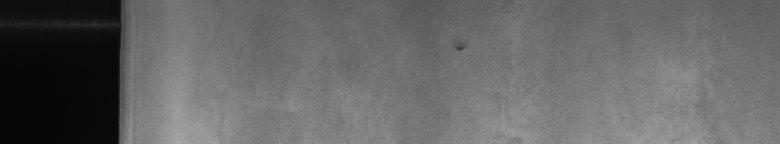fi: (454, 43, 468, 56)
